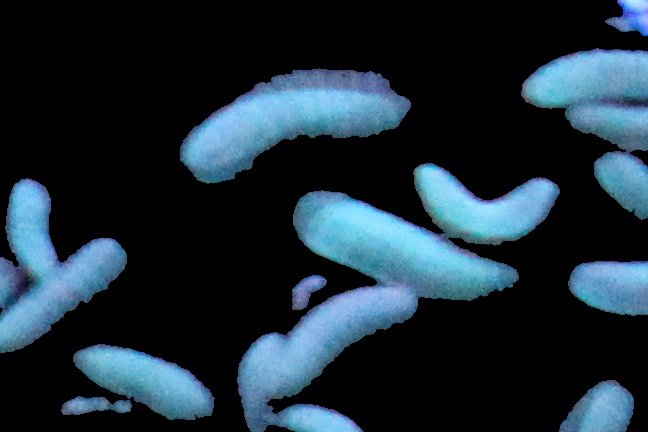larvae: (167, 67, 419, 178), (306, 201, 510, 294), (1, 239, 127, 350), (75, 341, 213, 428), (289, 285, 413, 380), (417, 164, 550, 238), (513, 41, 648, 105), (1, 178, 59, 278), (566, 249, 648, 316), (552, 96, 648, 152), (578, 150, 648, 214), (239, 331, 282, 428), (570, 376, 636, 432), (282, 403, 356, 432)
